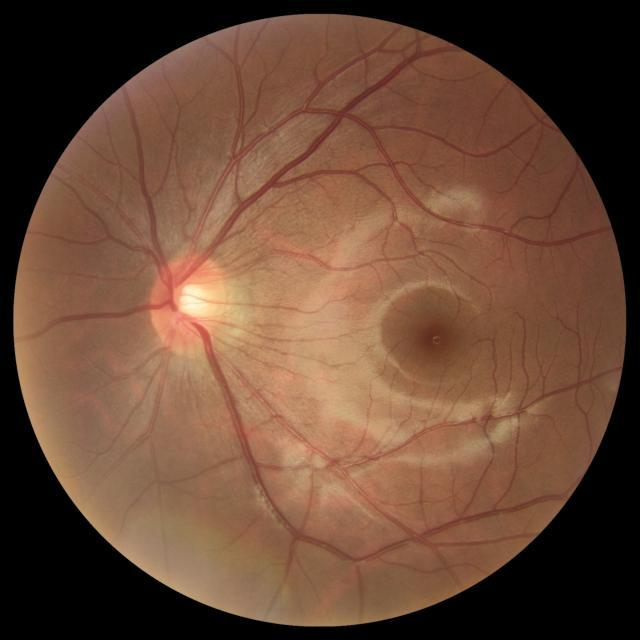OC: (170, 280, 208, 320)
OD: (151, 252, 231, 352)
